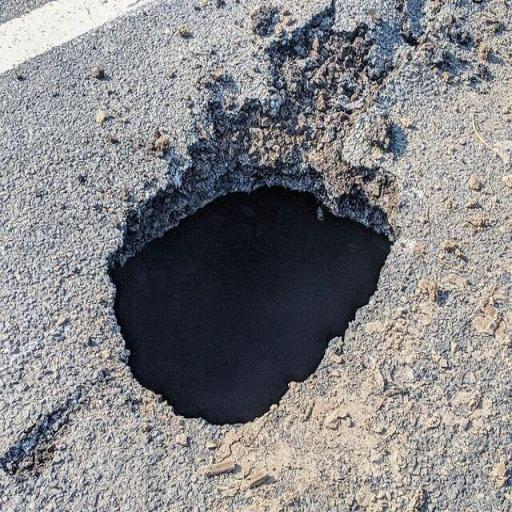Concentric_Crack: (110, 132, 393, 424)
